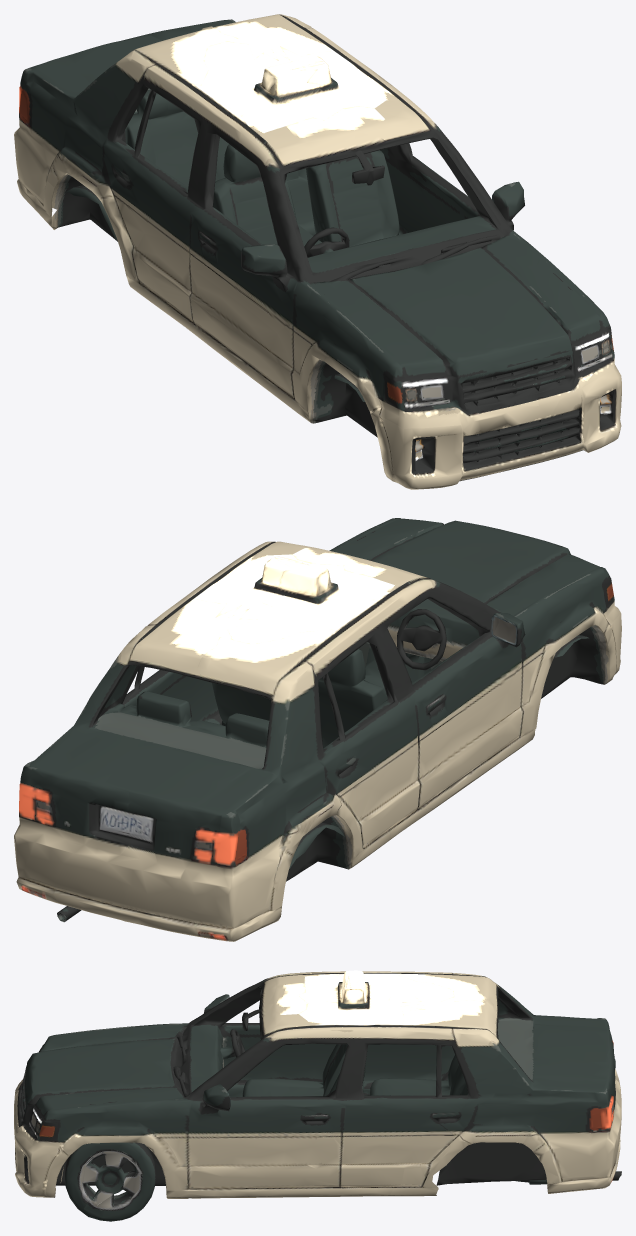
File: taxi.glb
3 views of the same model, one above another, from view 1: azimuth 30°, elevation 25°; view 2: azimuth 150°, elevation 25°; view 3: azimuth 270°, elevation 25° (orthographic). The views are drawn at different scales.
Parts seen in each view (by area): view 1: body; view 2: body; view 3: body, wheel_FR.
Boxes of the visible parts, x1=… form: body: x1=14, y1=14, x2=621, y2=489; body: x1=14, y1=518, x2=621, y2=941; body: x1=14, y1=970, x2=621, y2=1198; wheel_FR: x1=60, y1=1142, x2=155, y2=1221.
Bounding box in the file's own units: 1.85 × 1.72 × 4.7.
Materials: 1 (1 with a texture image).
